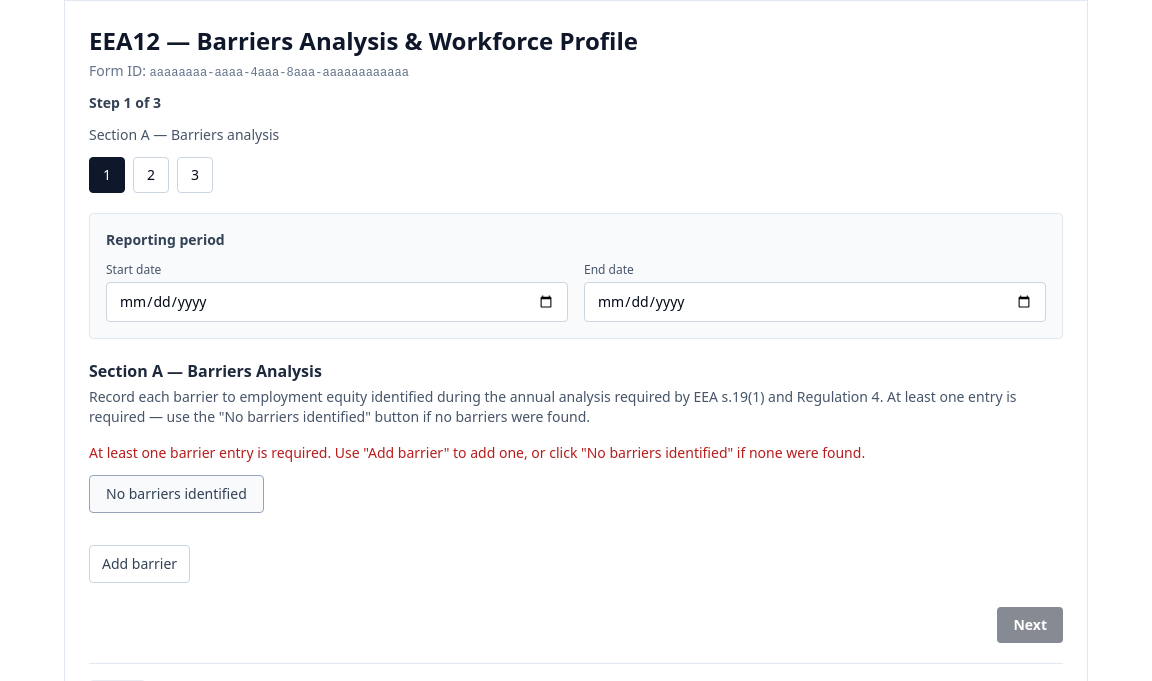
EEA12Form — reporting period › shows a period error when end date is before start date
Type "2025-10-01" into the date field named "reporting period start date" at (337,302), box [106,282,568,322]
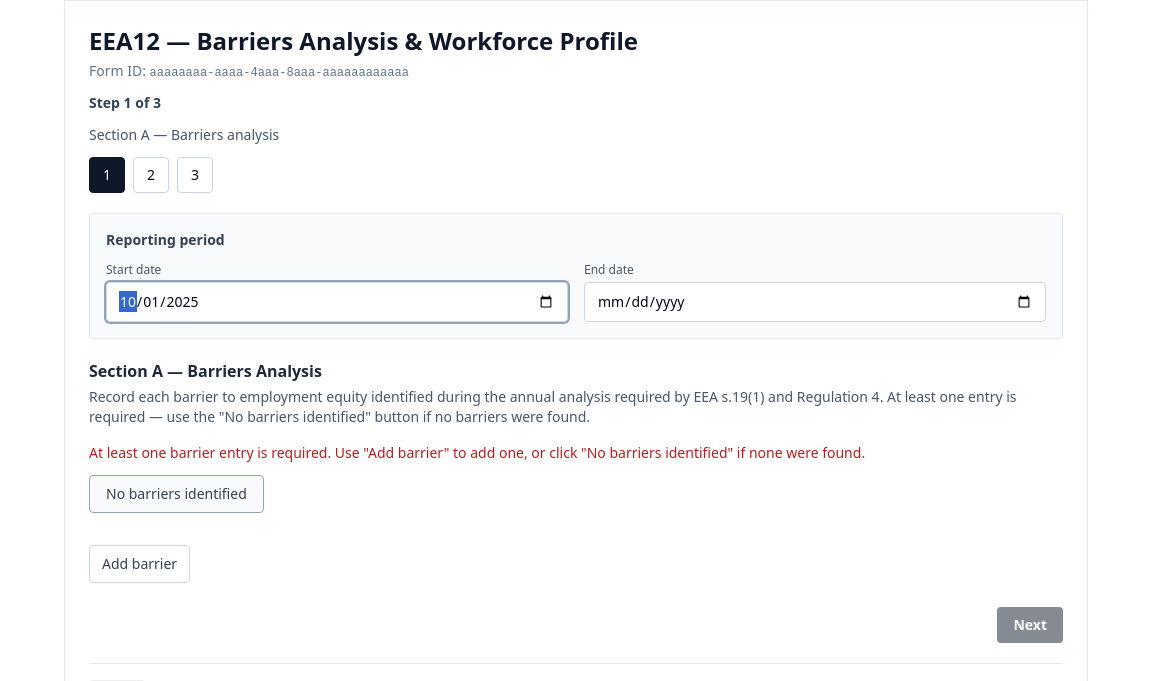
Type "2025-09-30" into the date field named "reporting period end date" at (815,302), box [584,282,1046,322]
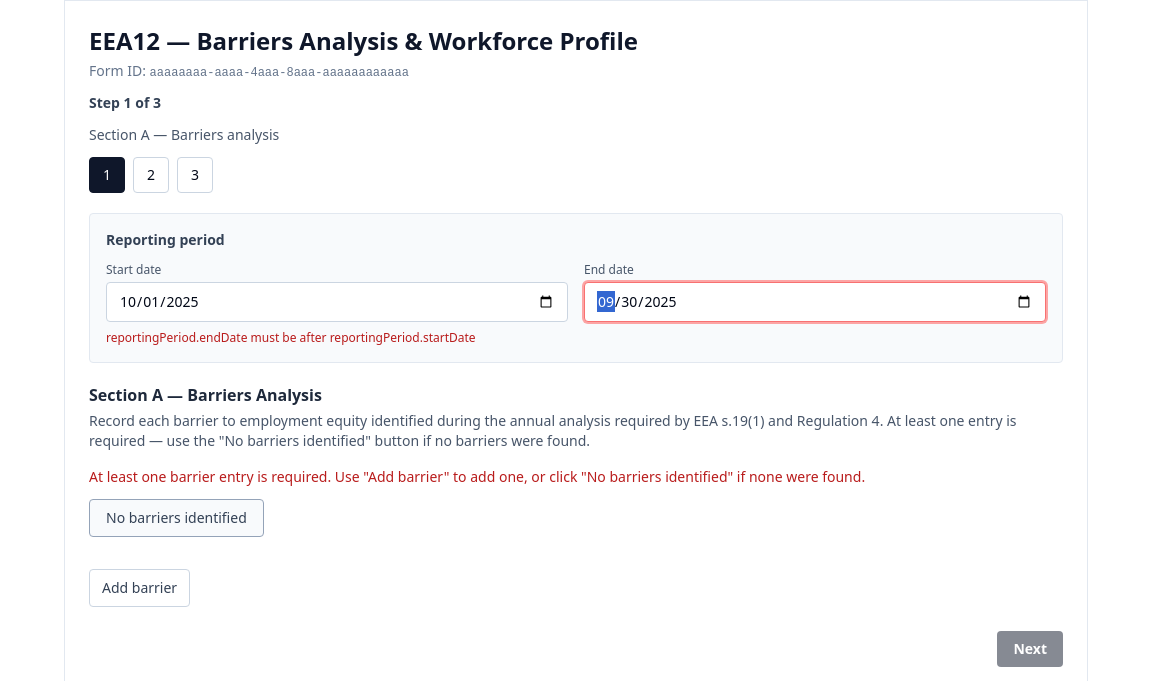
expect the message with test id "eea12-period-error" shows "endDate must be after": met, box [106,329,476,346]
